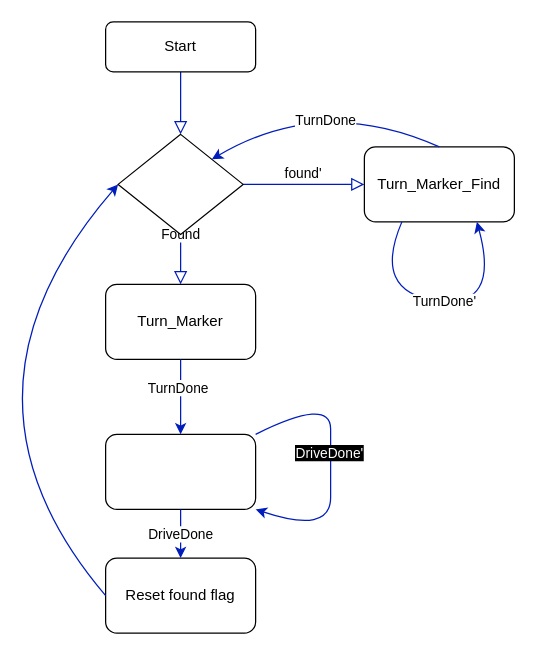
Image size: 536x655. Some labels were removed from this diagram. The centre of each missing label's shape, as x and y in pixels:
Drive_Marker: the point at 180,471
marker found: the point at 180,183
